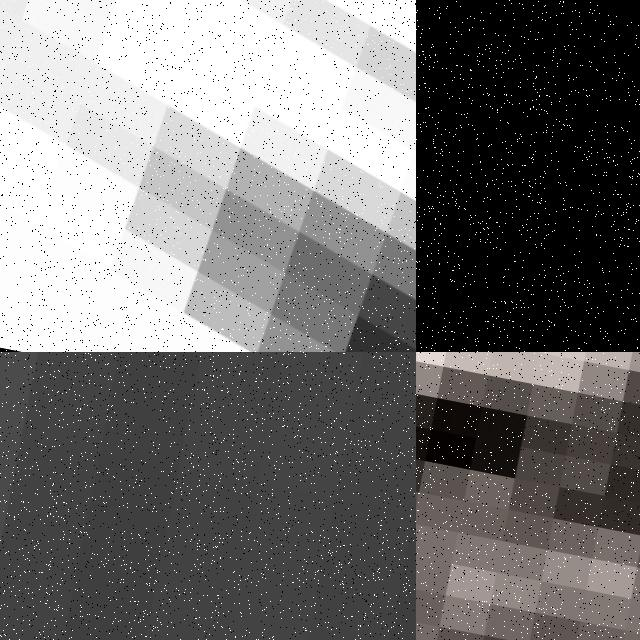drone: (0, 0, 416, 352)
